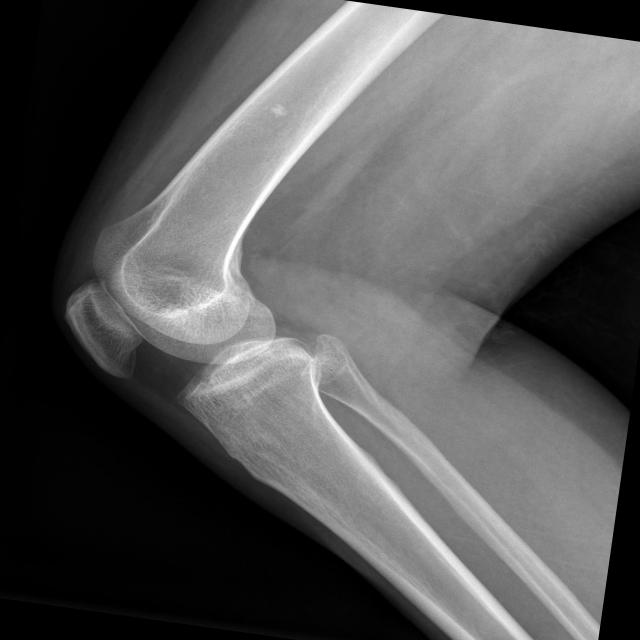Knee: (48, 217, 334, 446)
